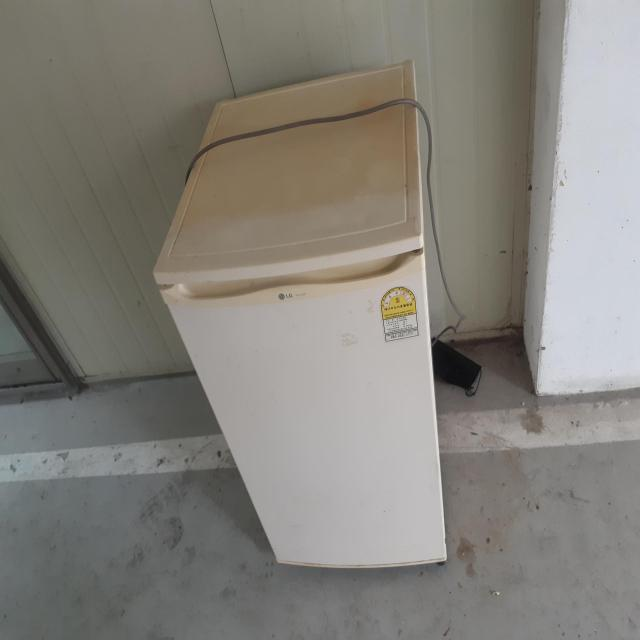refrigerator: (150, 55, 449, 566)
